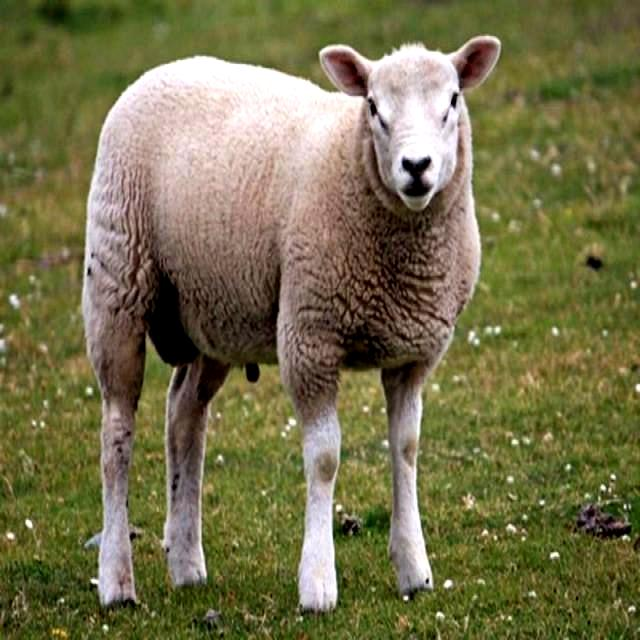sheep: (84, 38, 498, 617)
